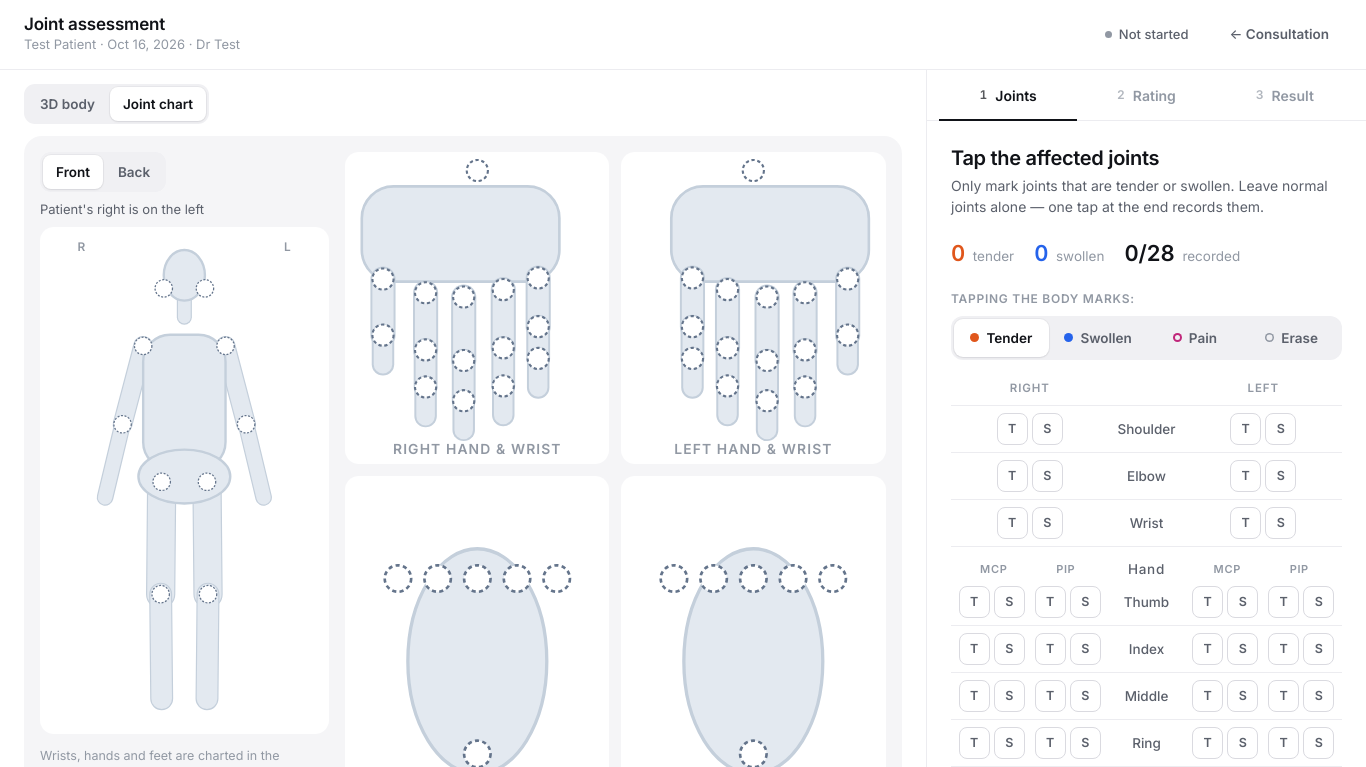
Test: quick joint examination: tap only the affected joints › turning a finding off after "Done" keeps the joint examined (negative, not unknown)
The image size is (1366, 767).
expect the text with test id "assessment-status" does not show "Loading": met, box [1105, 25, 1188, 44]
What coordinates should you click on to do the following:
click the button named "Right wrist tender"
I would click on:
 (1012, 523)
Its box is [997, 507, 1028, 539].
(page scrolled)
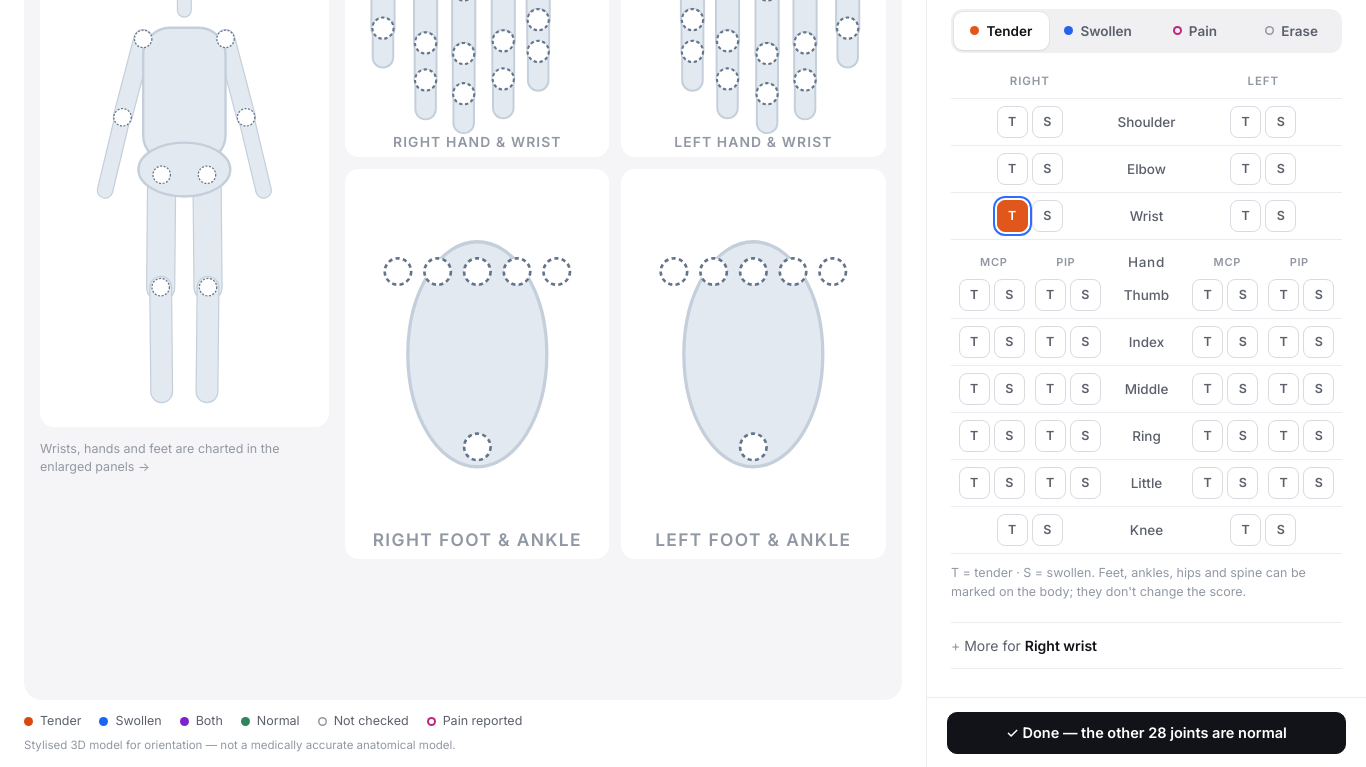
What coordinates should you click on to do the following:
click the button with test id "joints-done"
I would click on:
 (1146, 733)
Its box is [947, 712, 1346, 754].
(page scrolled)
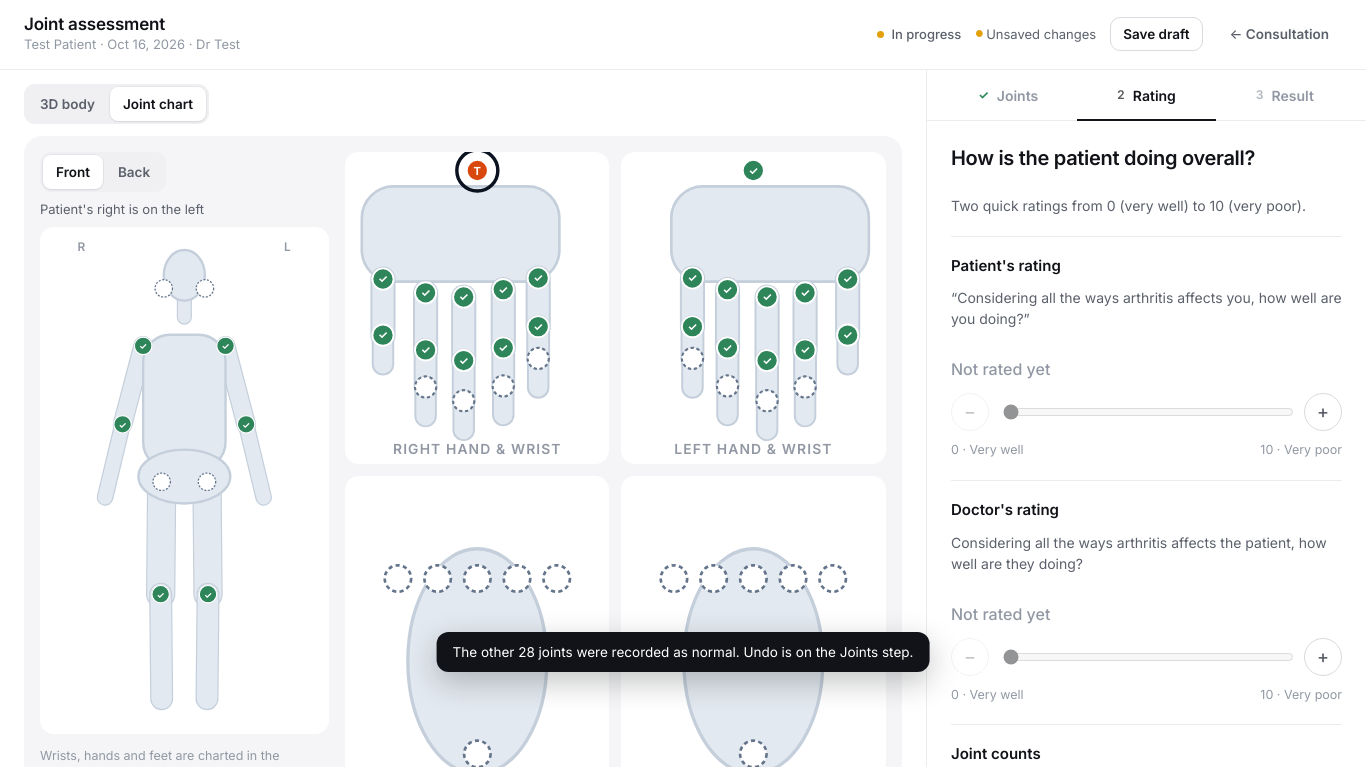
What coordinates should you click on to do the following:
click the button "✓ Joints"
I would click on:
 (1008, 95)
Its box is [939, 70, 1077, 121].
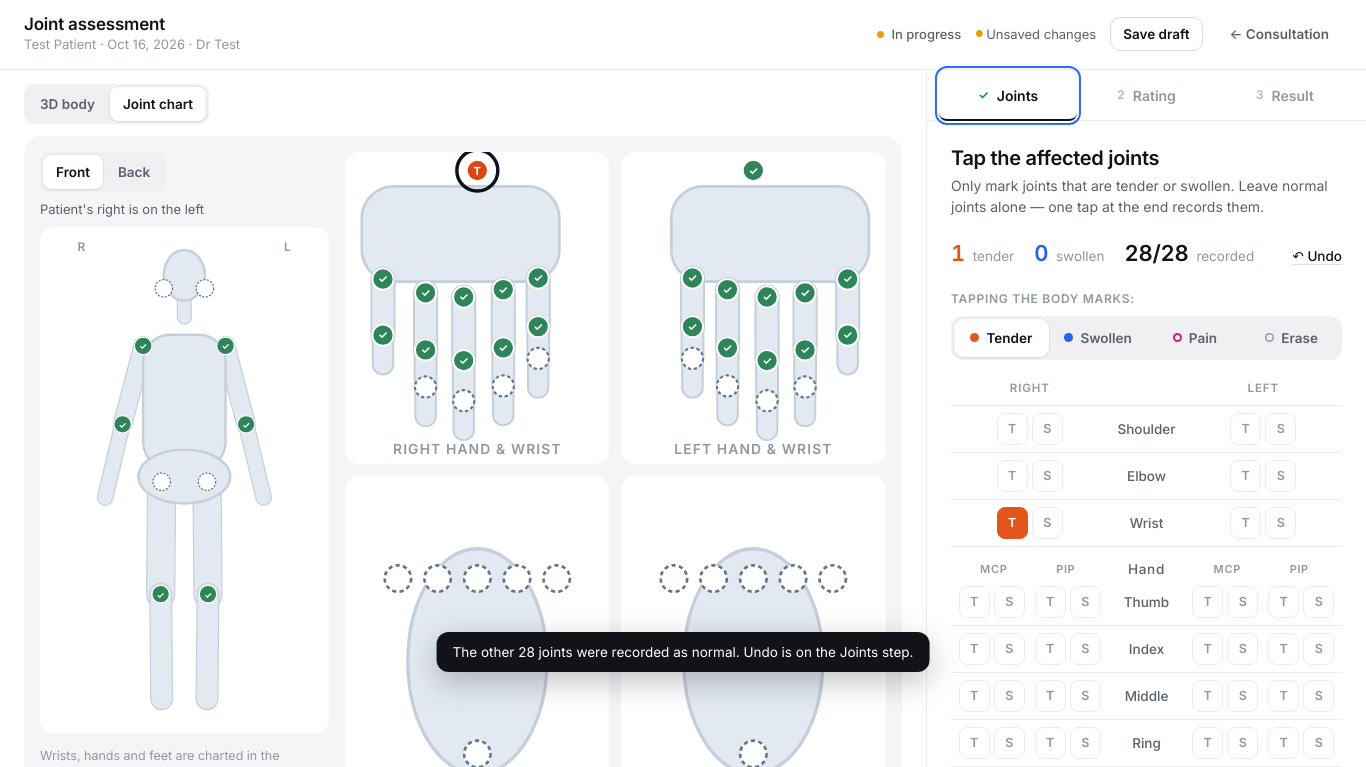
What coordinates should you click on to do the following:
click the button named "Right wrist tender"
I would click on:
 (1012, 523)
Its box is [997, 507, 1028, 539].
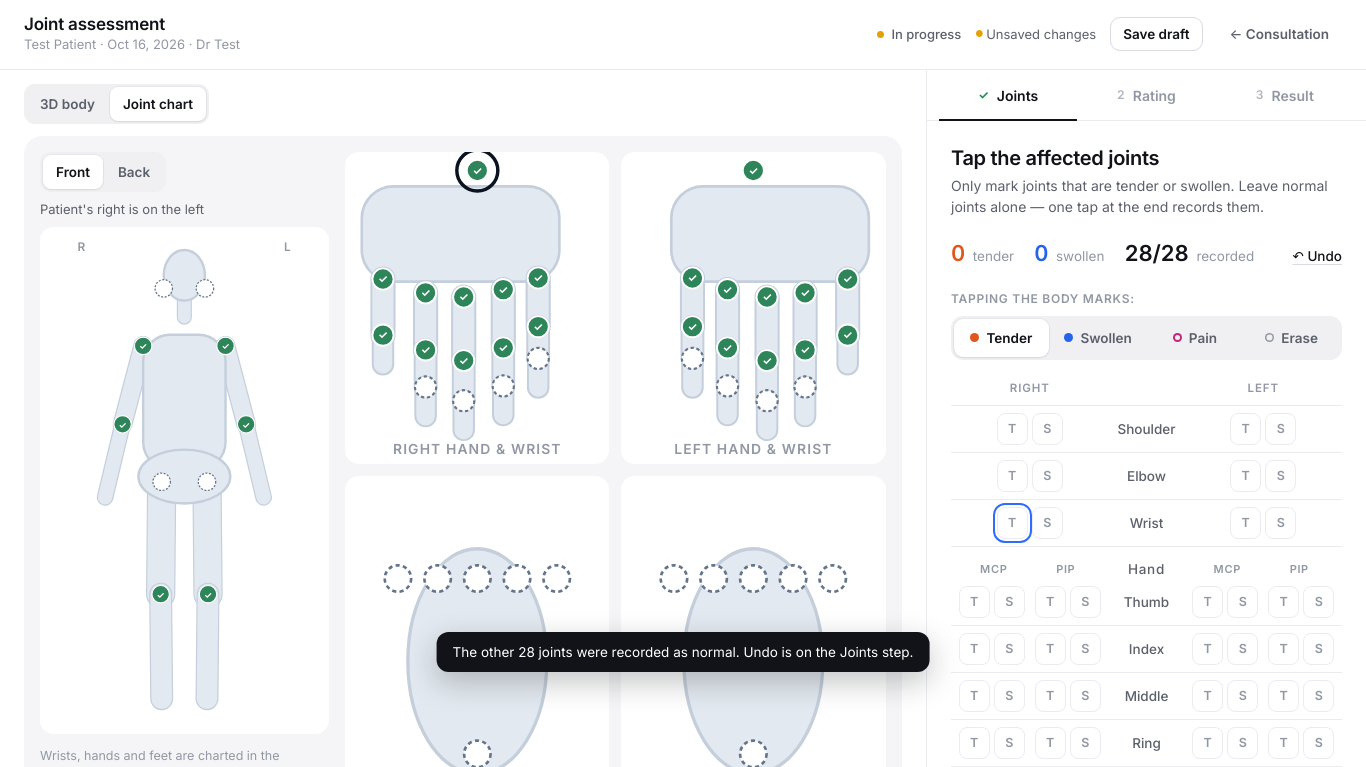
expect the text with test id "progress-count" reads "28/28": met, box [1124, 240, 1189, 266]
expect the text with test id "count-tender" reads "0": met, box [951, 240, 965, 266]
